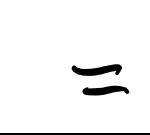eqv: (70, 64, 131, 97)
